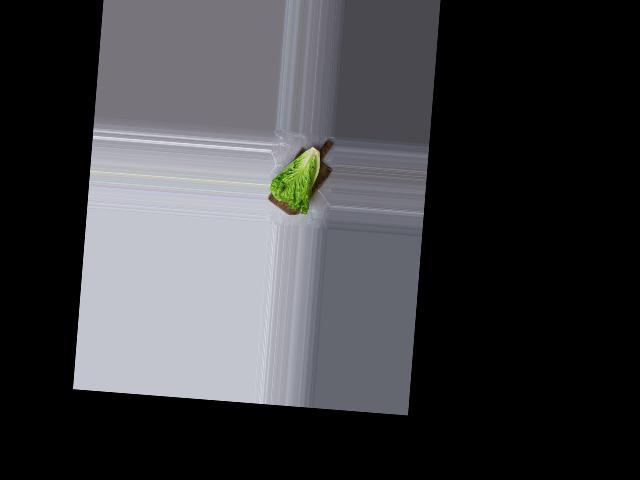lettuce: (268, 141, 329, 215)
